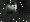person: (8, 3, 14, 15), (12, 3, 17, 13)
